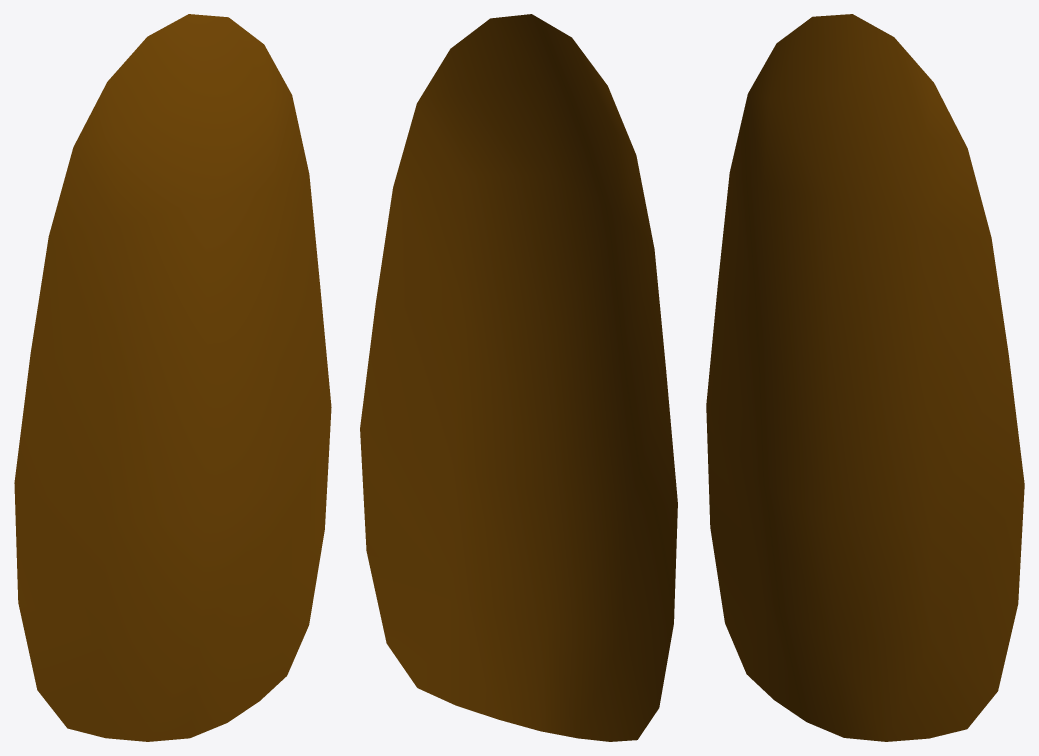
Rendered from MD_nail_oval_HandR.Ring.fbx.
The picture shows the model from 3 angles, left to right: view 1: azimuth 30°, elevation 25°; view 2: azimuth 150°, elevation 25°; view 3: azimuth 330°, elevation 25°; orthographic projection.
Parts seen in each view (by area): view 1: MD_nail_oval_HandR.Ring; view 2: MD_nail_oval_HandR.Ring; view 3: MD_nail_oval_HandR.Ring.
Boxes of the visible parts, box(x1,y1,x2,y2) form: MD_nail_oval_HandR.Ring: box(14, 14, 331, 741); MD_nail_oval_HandR.Ring: box(360, 14, 677, 741); MD_nail_oval_HandR.Ring: box(706, 14, 1024, 741).
Size of the model in its own units: 0.7124 by 1.54 by 0.1365.
